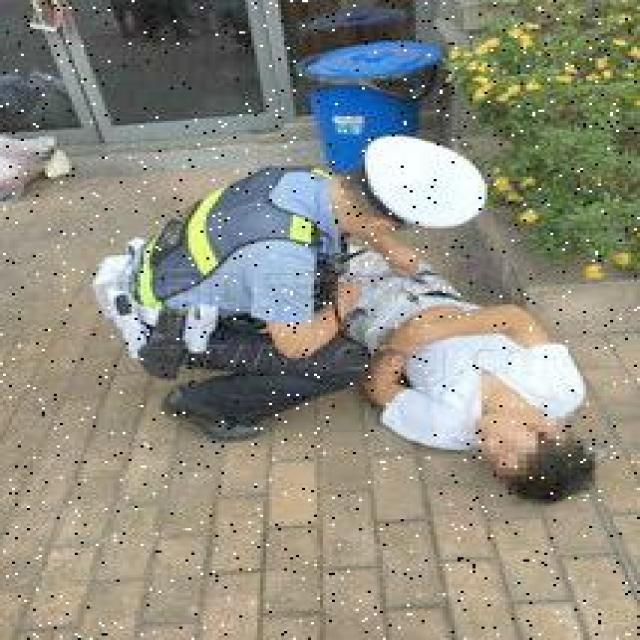fall: (335, 251, 598, 504)
